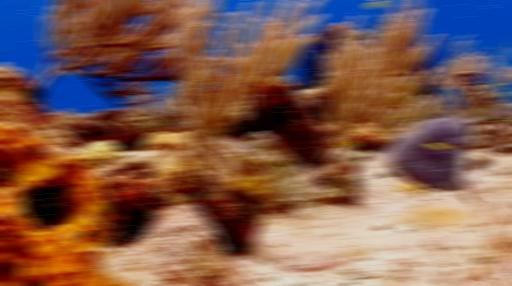Fish: (15, 72, 42, 104), (334, 139, 357, 150), (365, 0, 386, 9), (425, 143, 450, 150), (63, 69, 78, 76)
